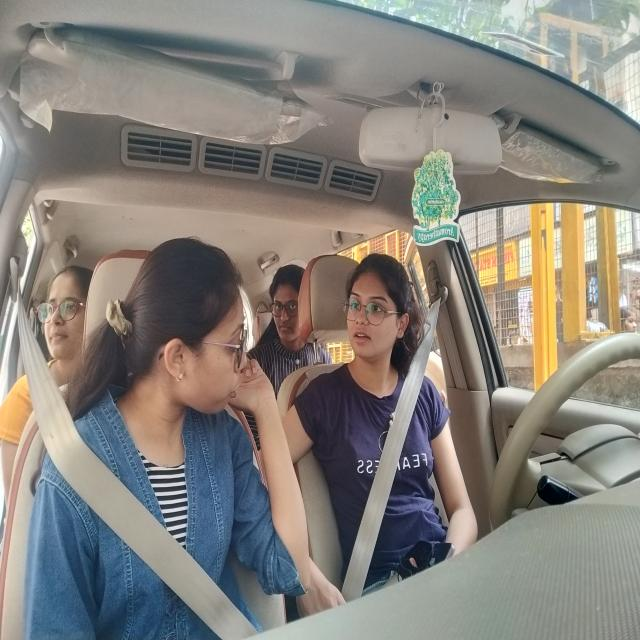LeftRight: (344, 256, 412, 373)
person: (143, 231, 249, 421), (264, 260, 316, 350), (41, 263, 87, 356)
talking: (352, 328, 376, 349)
